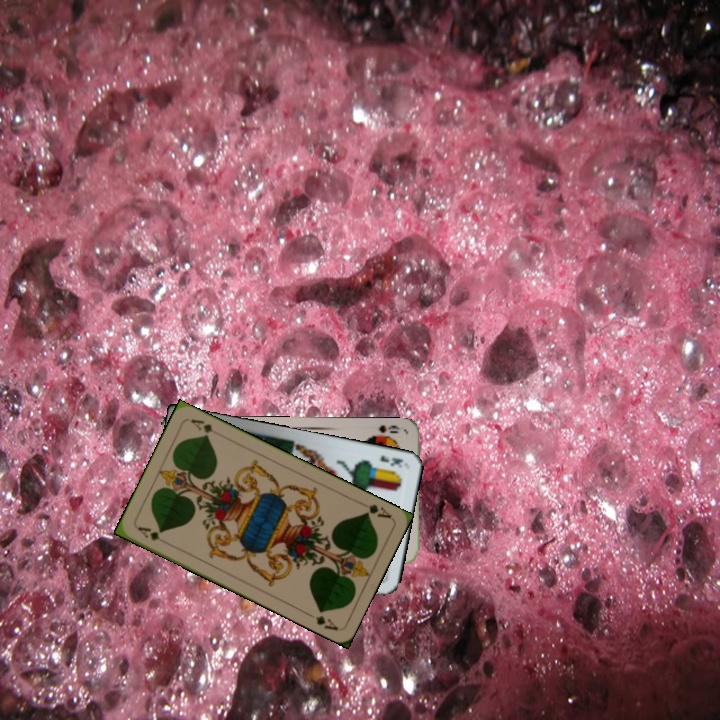EK: (376, 451, 406, 471)
GA: (134, 522, 170, 547), (356, 498, 394, 521)
SO: (375, 421, 402, 436)
